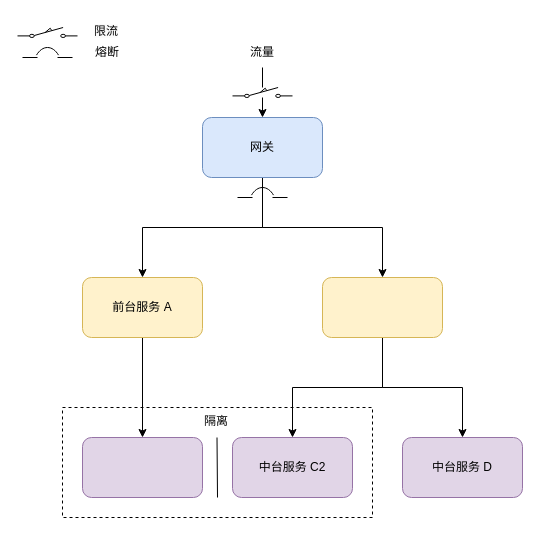
Some shapes in this 540 by 535 pixel diagram are drawn without their labels. Here are the shapes that lost their labels. From the top down, the centre of each, then its label:
At point 382,307: "前台服务 B".
At point 142,467: "中台服务 C1".
